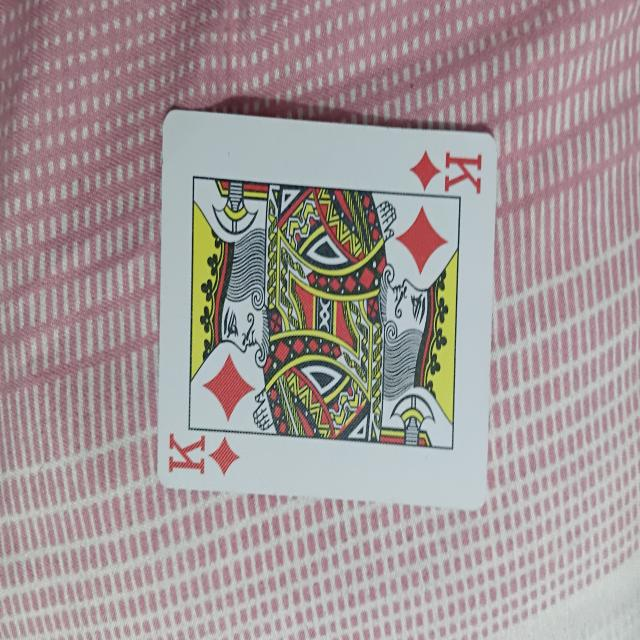KD: (155, 104, 495, 515)
